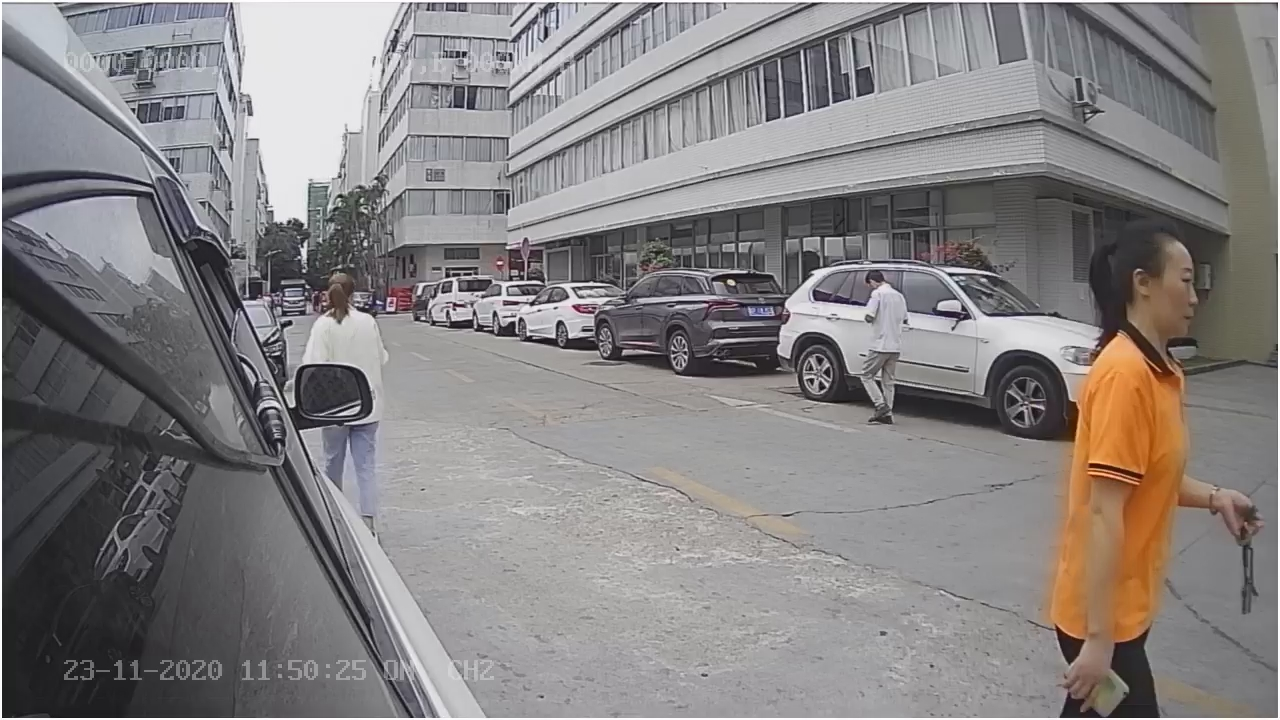person: (1056, 228, 1265, 559), (844, 263, 931, 422), (294, 272, 389, 365)
